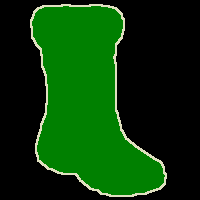shoe: (31, 4, 166, 196)
